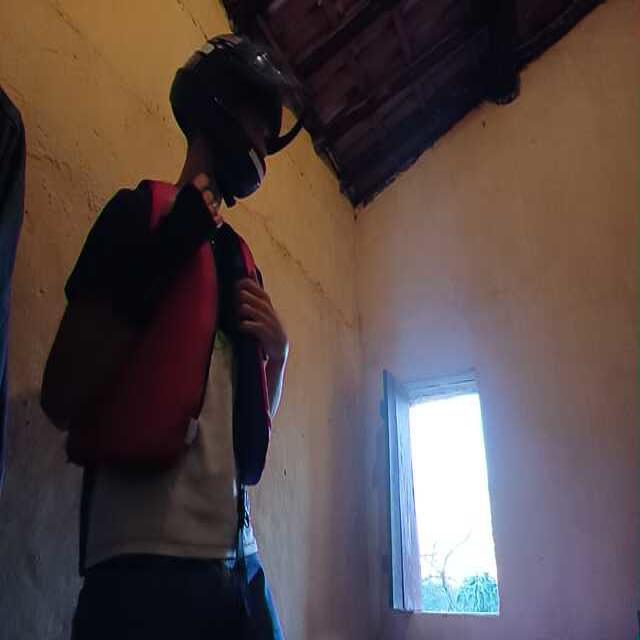capacete: (174, 37, 300, 206)
colete: (99, 180, 213, 463), (235, 234, 272, 489)
pessoa: (59, 57, 298, 640)
